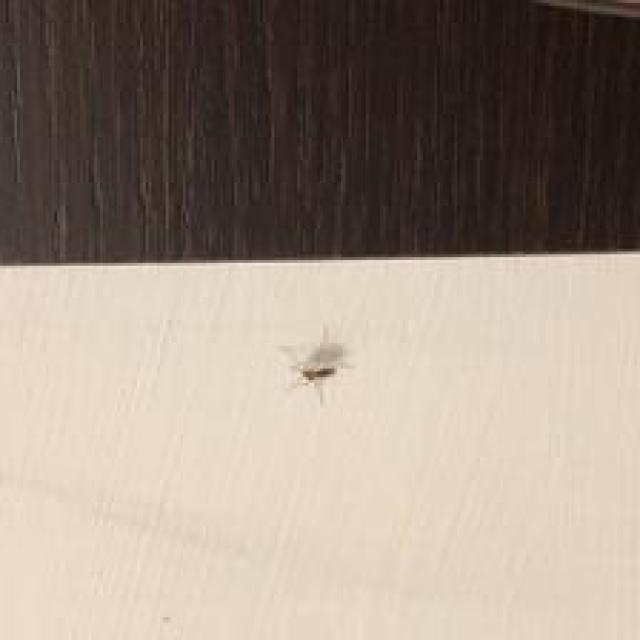Culex: (278, 324, 353, 404)
